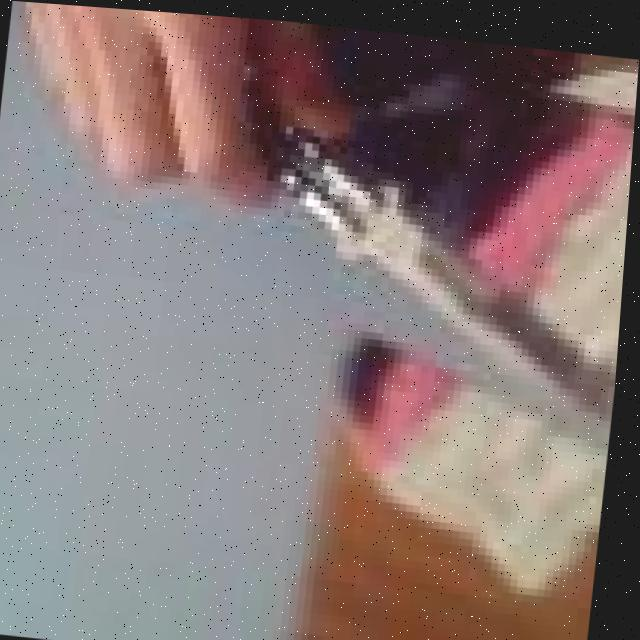knife: (218, 88, 636, 438)
